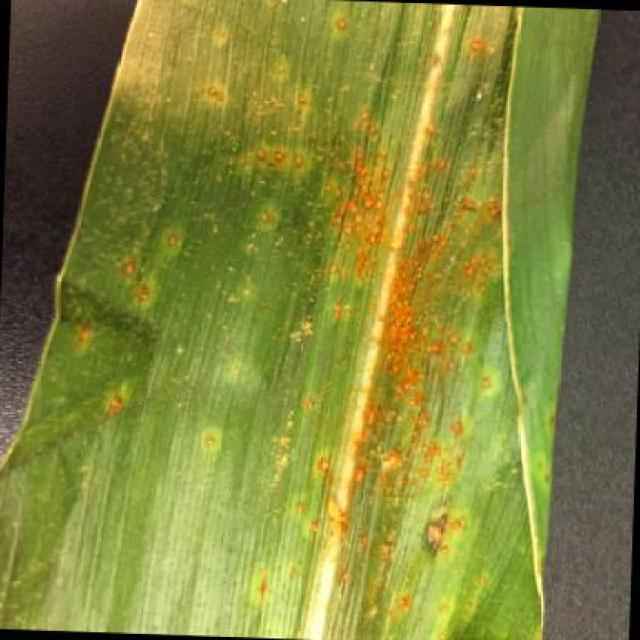Corn_Rust: (97, 23, 558, 635)
